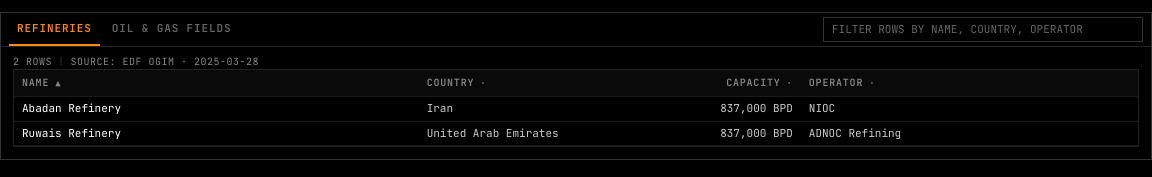
Test: TablePage › filters rows by text and says how many of the layer are left
Type "iran" into the search field labelled "FILTER ROWS". click: (983, 30)
box: [823, 17, 1143, 42]
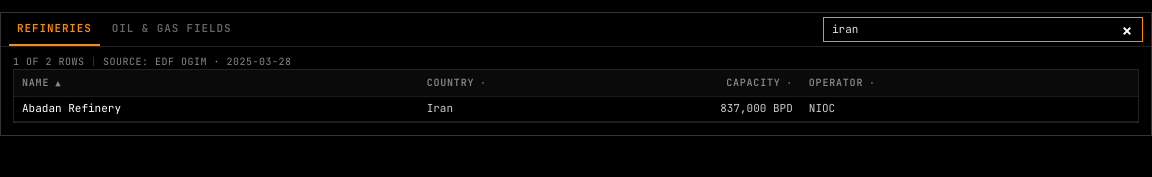
Expected: the text "Abadan Refinery" is shown, [14, 97, 419, 121]
Result: the text "1 OF 2 ROWS" is shown at [13, 55, 84, 69]
Result: the text "Ruwais Refinery" is gone
